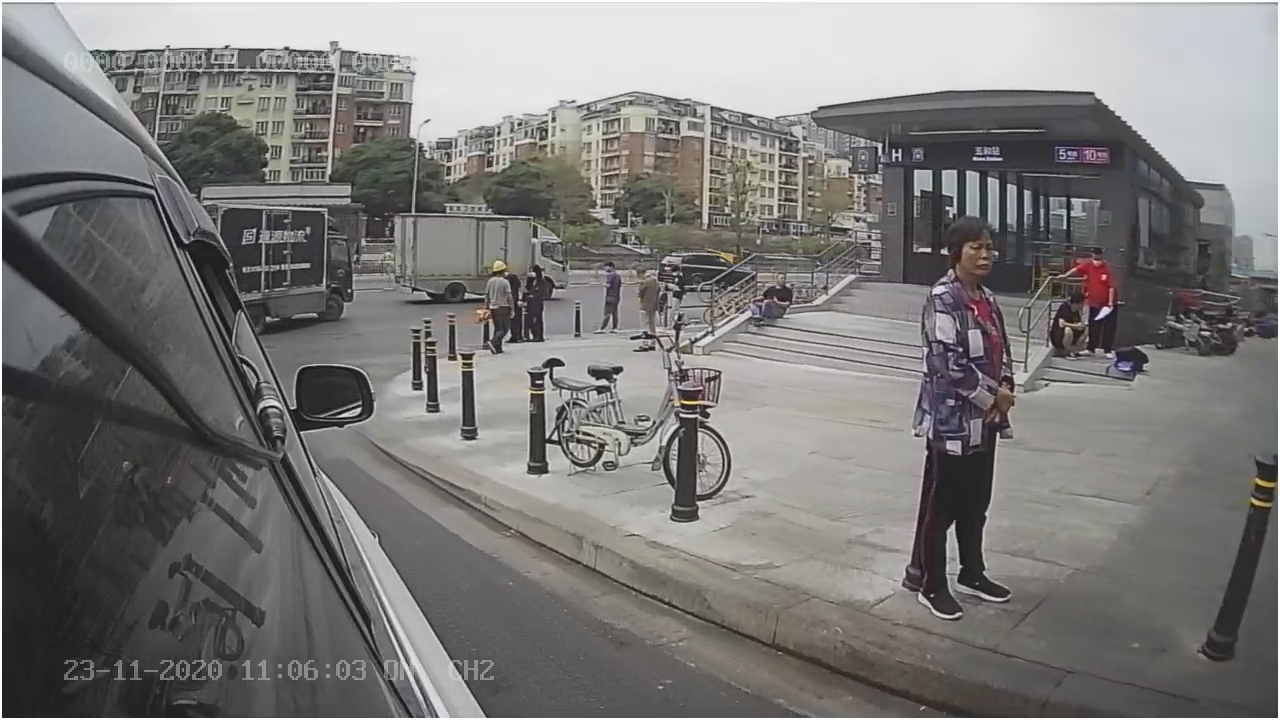person: (900, 213, 1037, 621)
